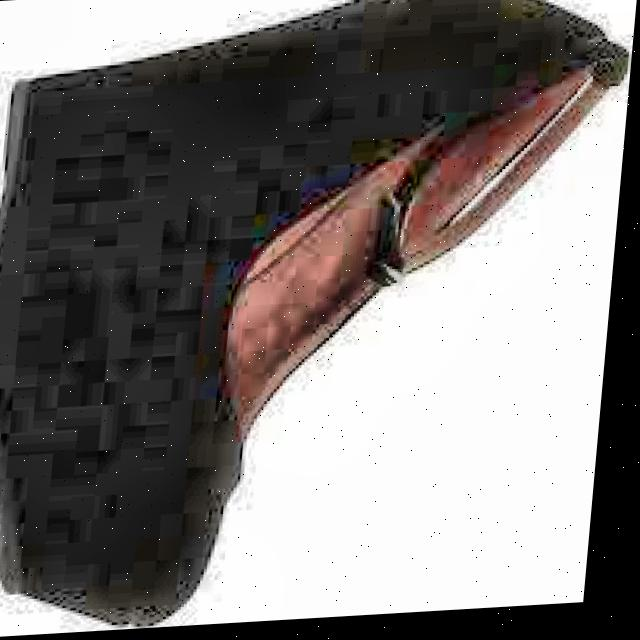shoes: (0, 0, 625, 639)
